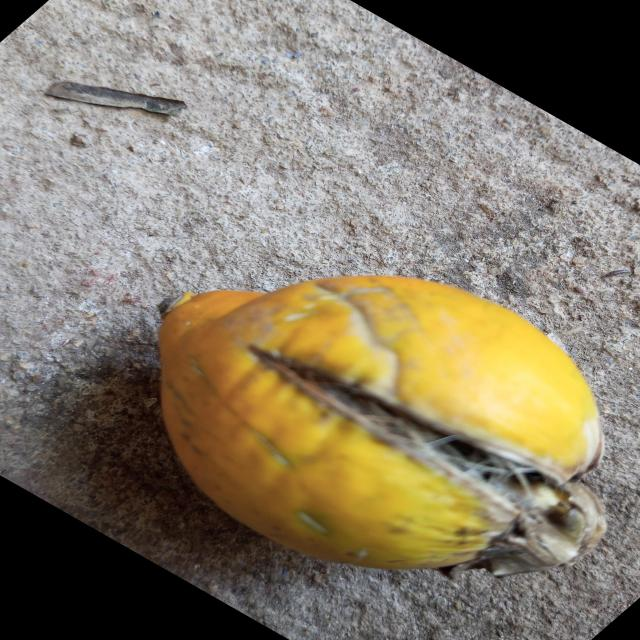damaged: (159, 276, 605, 577)
